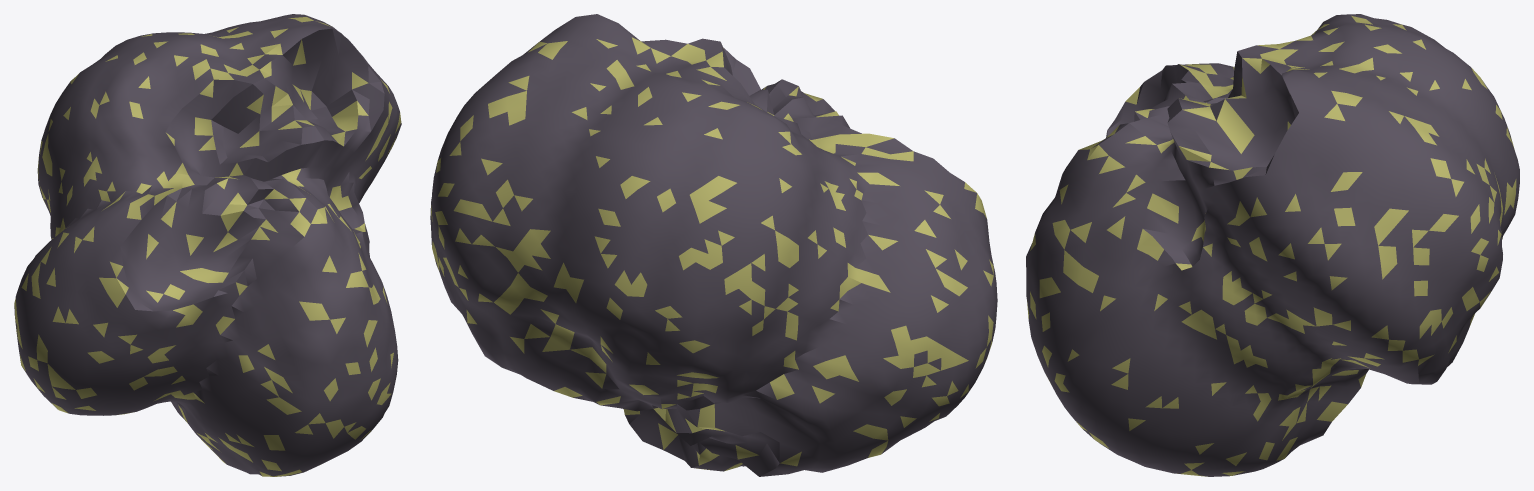
File: big-carbonic-asteroid.glb
3 views of the same model, side by side, from view 1: azimuth 30°, elevation 25°; view 2: azimuth 150°, elevation 25°; view 3: azimuth 270°, elevation 25° (orthographic). The views are drawn at different scales.
Visible parts, largest first — view 1: body; view 2: body; view 3: body.
Boxes of the visible parts, left/top/right/bottom form: body: left=14, top=14, right=401, bottom=476; body: left=430, top=14, right=997, bottom=476; body: left=1026, top=14, right=1519, bottom=476.
Bounding box in the file's own units: 5.22 × 4.66 × 4.81.
